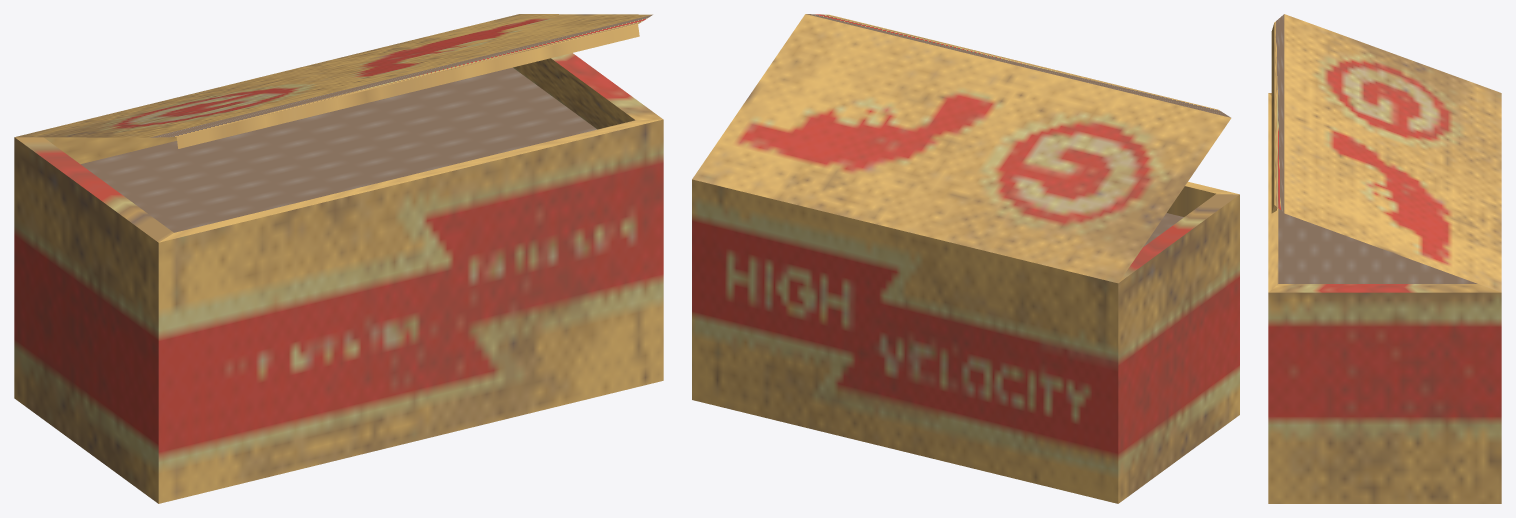
3 views of the same model, side by side, from view 1: azimuth 30°, elevation 25°; view 2: azimuth 150°, elevation 25°; view 3: azimuth 270°, elevation 25° (orthographic). The views are drawn at different scales.
Parts seen in each view (by area): view 1: Cube; view 2: Cube; view 3: Cube.
Boxes of the visible parts, x1,y1,x2,y2 form: Cube: [14, 14, 663, 503]; Cube: [692, 14, 1239, 503]; Cube: [1268, 14, 1501, 503].
Bounding box in the file's own units: 7.99 × 5.43 × 3.95.
Materials: 1 (1 with a texture image).
